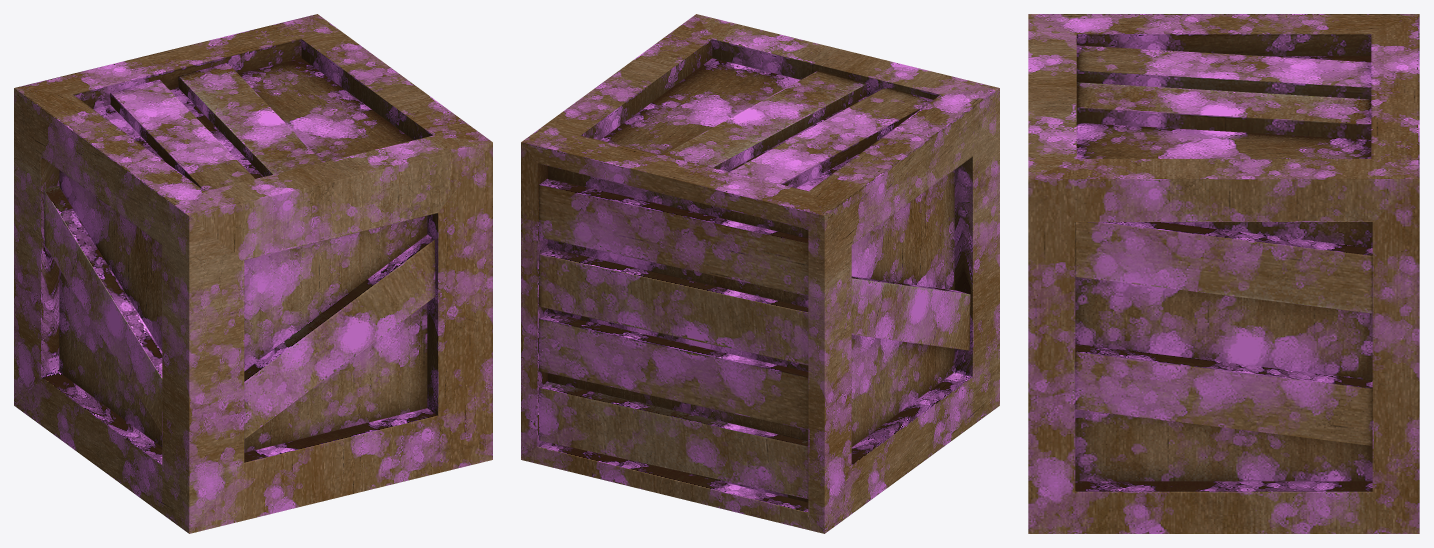
Rendered from box2violet.glb.
3 views of the same model, side by side, from view 1: azimuth 30°, elevation 25°; view 2: azimuth 150°, elevation 25°; view 3: azimuth 270°, elevation 25° (orthographic). The views are drawn at different scales.
Parts seen in each view (by area): view 1: Cube, Cube.001, Cube.002, Cube.003, Cube.004; view 2: Cube, Cube.009, Cube.012, Cube.010, Cube.011, Cube.003, Cube.004, Cube.002; view 3: Cube, Cube.007, Cube.006, Cube.003, Cube.004.
Boxes of the visible parts, <box> form: Cube: <box>14,14,492,533</box>; Cube.001: <box>244,234,435,439</box>; Cube.002: <box>43,186,162,433</box>; Cube.003: <box>178,63,322,176</box>; Cube.004: <box>110,79,254,191</box>; Cube: <box>521,14,999,533</box>; Cube.009: <box>539,312,808,429</box>; Cube.012: <box>539,381,808,498</box>; Cube.010: <box>539,248,808,365</box>; Cube.011: <box>539,178,808,295</box>; Cube.003: <box>662,70,867,171</box>; Cube.004: <box>730,87,932,187</box>; Cube.002: <box>851,276,970,350</box>; Cube: <box>1028,14,1419,533</box>; Cube.007: <box>1075,344,1372,445</box>; Cube.006: <box>1075,222,1372,313</box>; Cube.003: <box>1076,82,1371,139</box>; Cube.004: <box>1076,45,1371,99</box>.
Size of the model in its own units: 2 by 2 by 2.
1 material, 1 textured.
